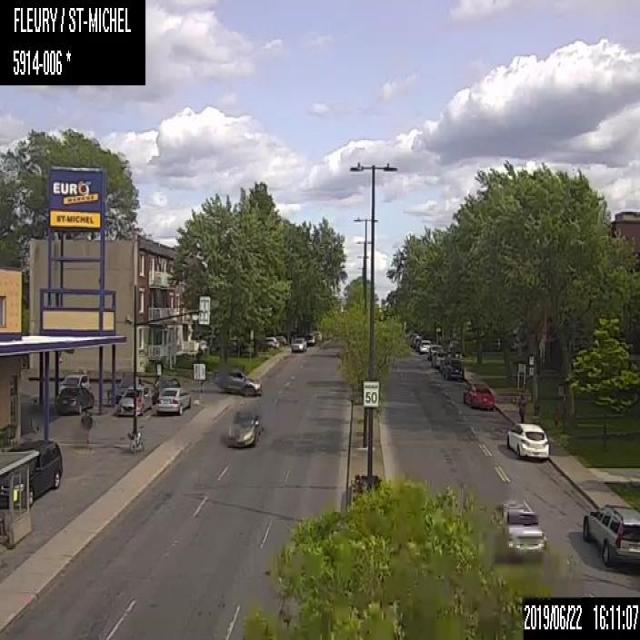pedestrian: (79, 408, 92, 444), (518, 393, 525, 422)
vehicle: (0, 439, 62, 509), (582, 504, 639, 566), (489, 497, 546, 556), (224, 404, 261, 447), (505, 422, 549, 458), (217, 370, 261, 396), (55, 385, 94, 414), (115, 379, 156, 405), (116, 386, 151, 414), (156, 386, 190, 414), (462, 380, 494, 409), (150, 376, 180, 404), (58, 373, 90, 393), (438, 358, 462, 381), (430, 351, 446, 367), (290, 336, 306, 352), (427, 344, 441, 361), (418, 338, 432, 353), (264, 336, 278, 351), (275, 335, 289, 348), (303, 332, 315, 346)
